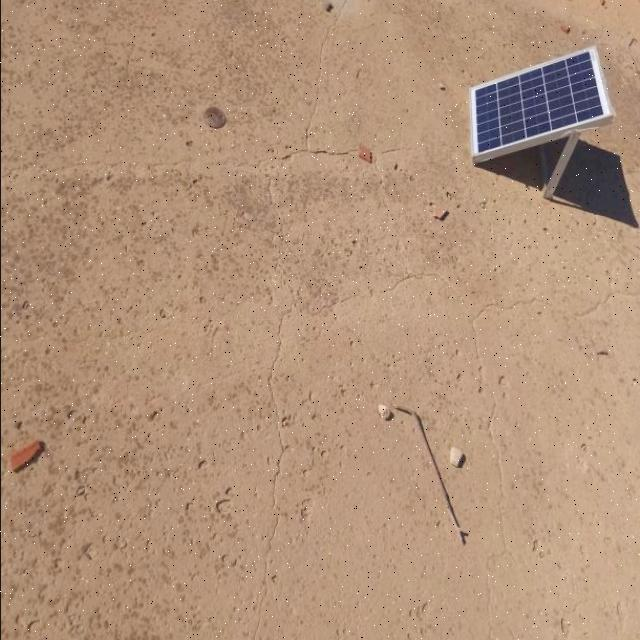Normal Solar Panel: (469, 45, 612, 156)
